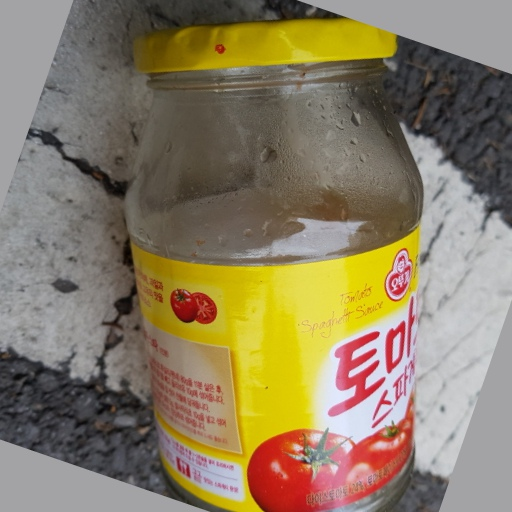Glass_5: (124, 16, 419, 510)
